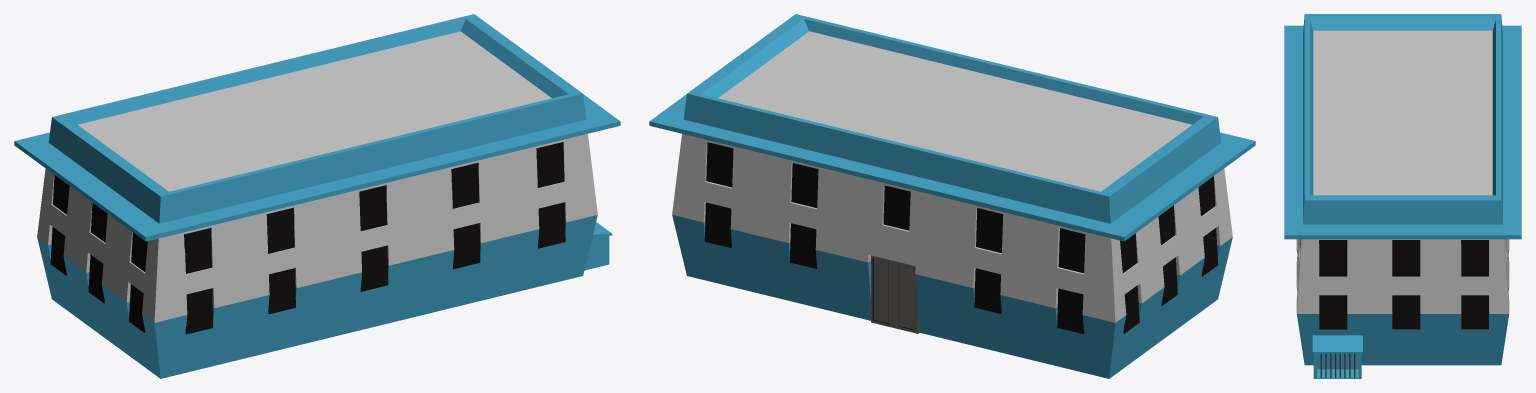
3 renders of one model, left to right at view 1: azimuth 30°, elevation 25°; view 2: azimuth 150°, elevation 25°; view 3: azimuth 270°, elevation 25°, orthographic. The views are drawn at different scales.
Parts seen in each view (by area): view 1: Cube007; view 2: Cube007; view 3: Cube007.
Boxes of the visible parts, <box> form: Cube007: <box>14,14,620,378</box>; Cube007: <box>649,14,1255,378</box>; Cube007: <box>1284,14,1521,378</box>.
Bounding box in the file's own units: 13.24 × 4.79 × 6.25.
